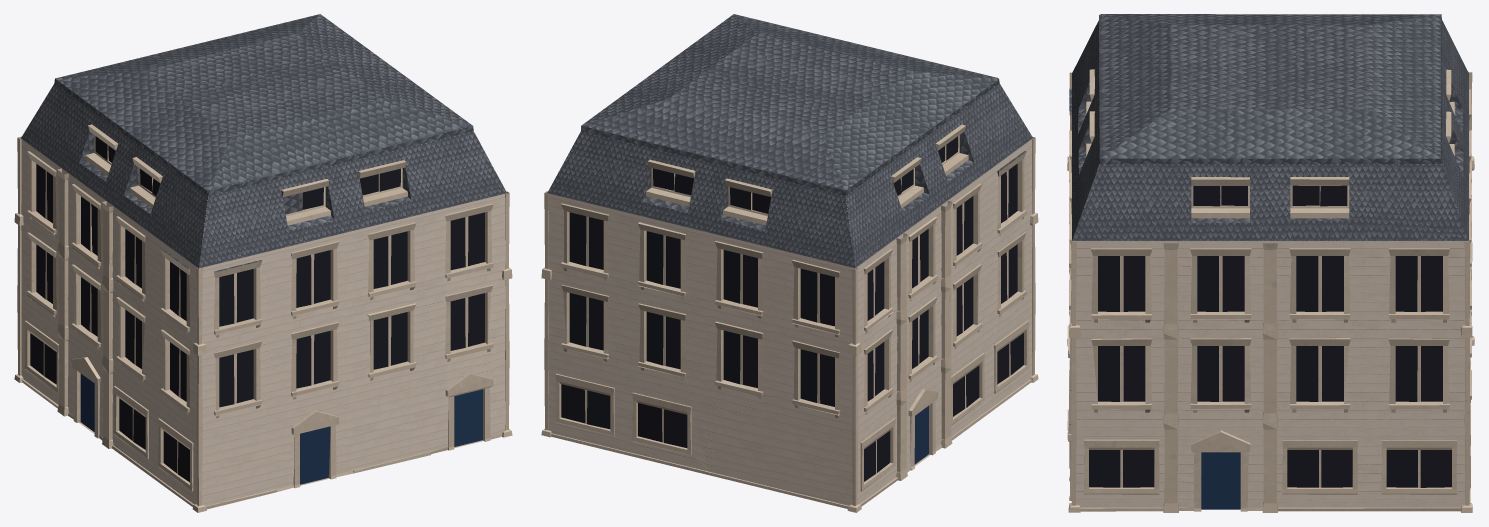
File: TESTHAUSMANN1LOD2.fbx
3 renders of one model, left to right at view 1: azimuth 30°, elevation 25°; view 2: azimuth 150°, elevation 25°; view 3: azimuth 270°, elevation 25°, orthographic. The views are drawn at different scales.
Visible parts, largest first — view 1: Hausmann1_RETOPO_LOD2; view 2: Hausmann1_RETOPO_LOD2; view 3: Hausmann1_RETOPO_LOD2.
Boxes of the visible parts, x1,y1,x2,y2 form: Hausmann1_RETOPO_LOD2: [14, 14, 512, 512]; Hausmann1_RETOPO_LOD2: [541, 14, 1038, 512]; Hausmann1_RETOPO_LOD2: [1067, 14, 1474, 512].
Bounding box in the file's own units: 1235 × 1201 × 1232.
